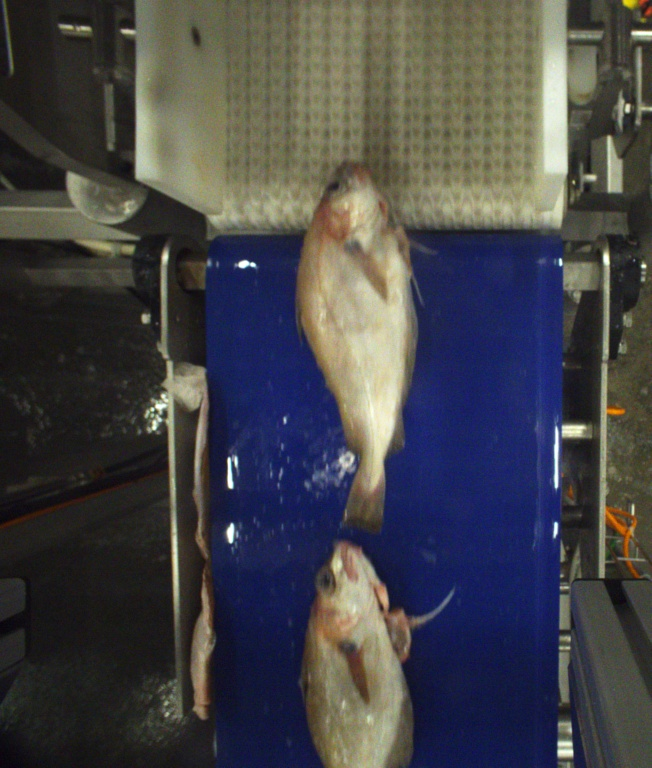BIB: (298, 539, 457, 768)
